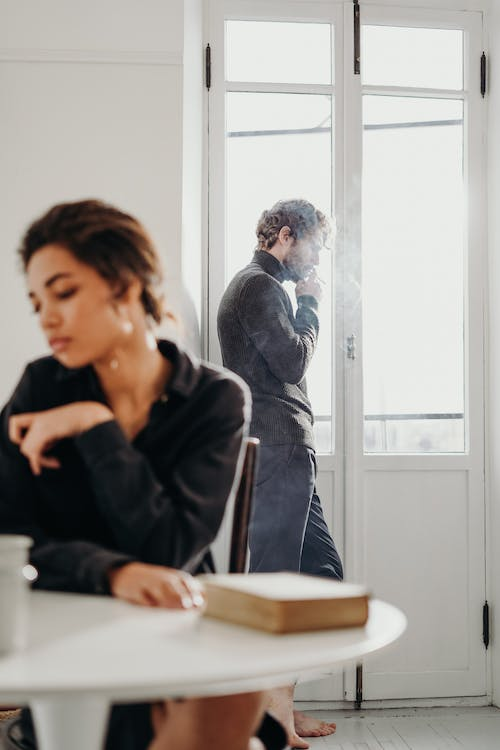cigarette: (309, 267, 329, 287)
